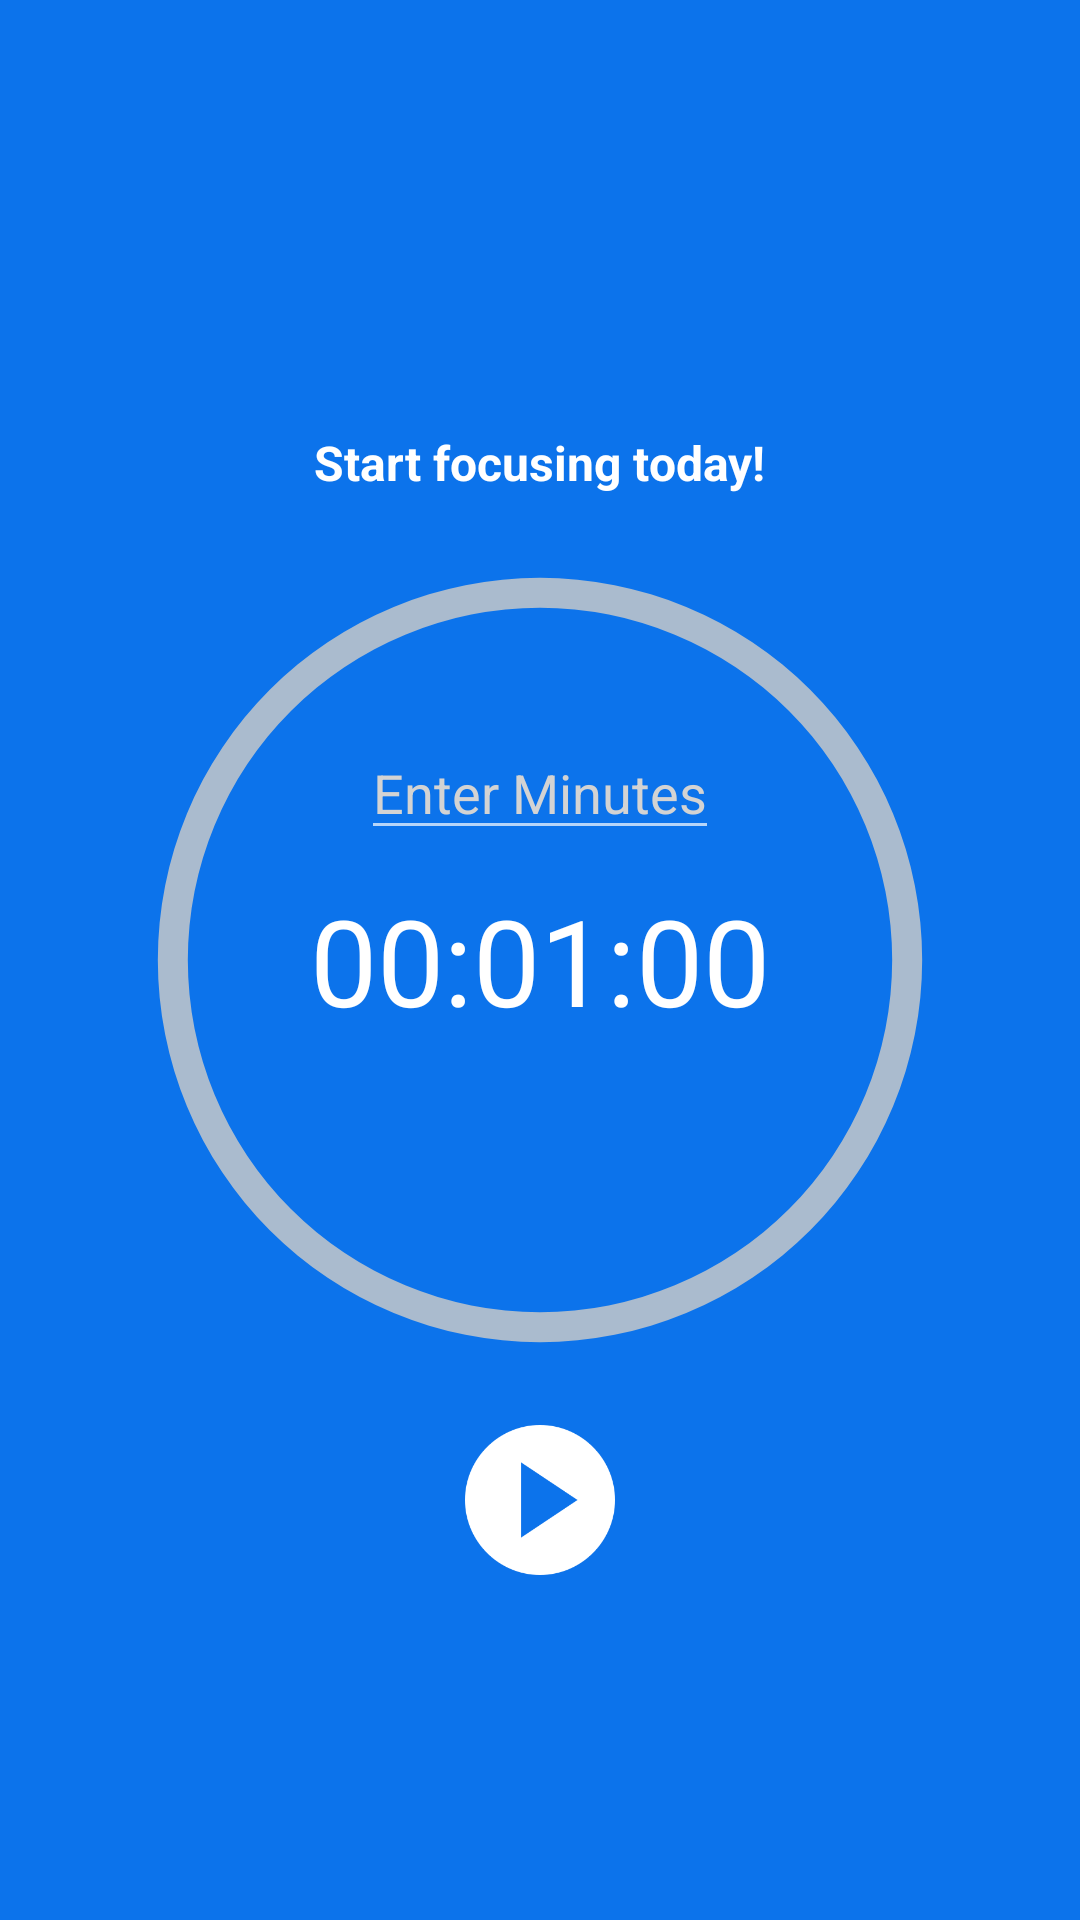

Locate icon controls on the screen. Image size 1080 × 1920, boxes as (x1, y1, x2, y2).
start: (465, 1425, 615, 1575)
